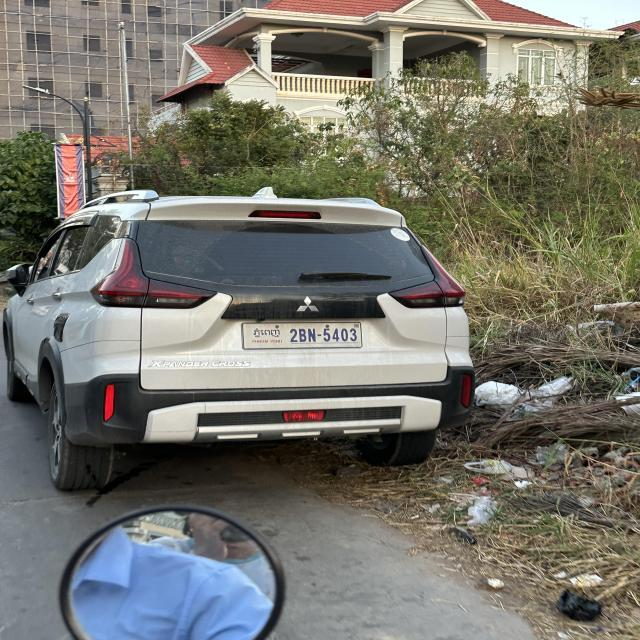Phnom_Penh: (253, 326, 280, 338)
